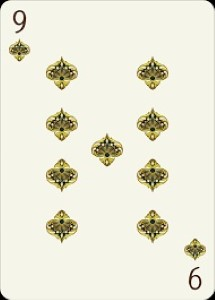NineOfSpades: (2, 1, 210, 296)
